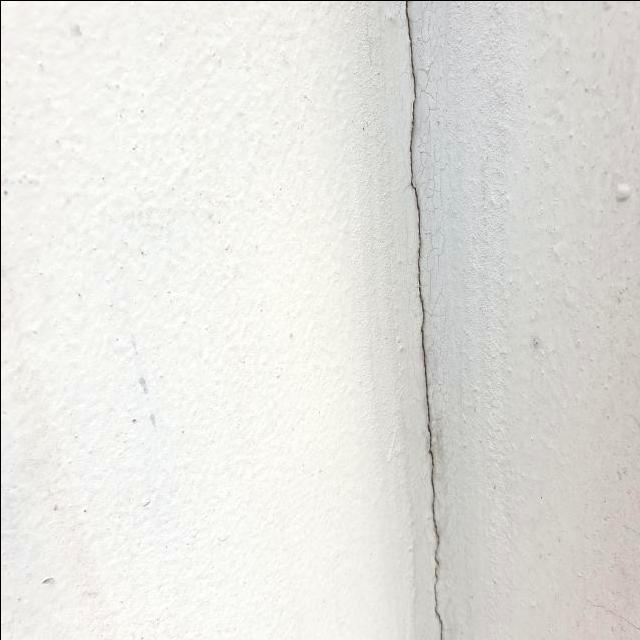SurfaceCrack: (360, 1, 492, 640)
